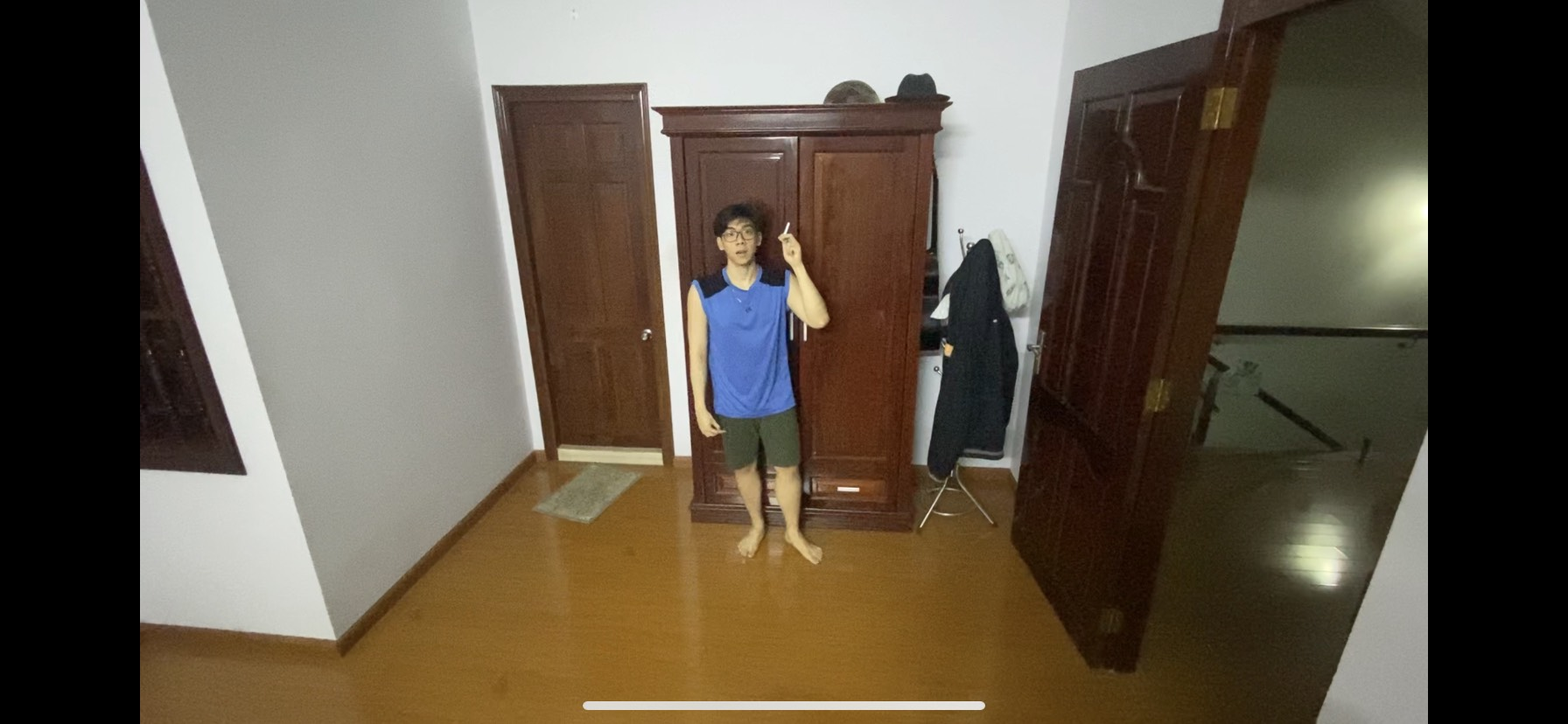cigarette: (783, 220, 794, 235)
person: (682, 205, 834, 567)
